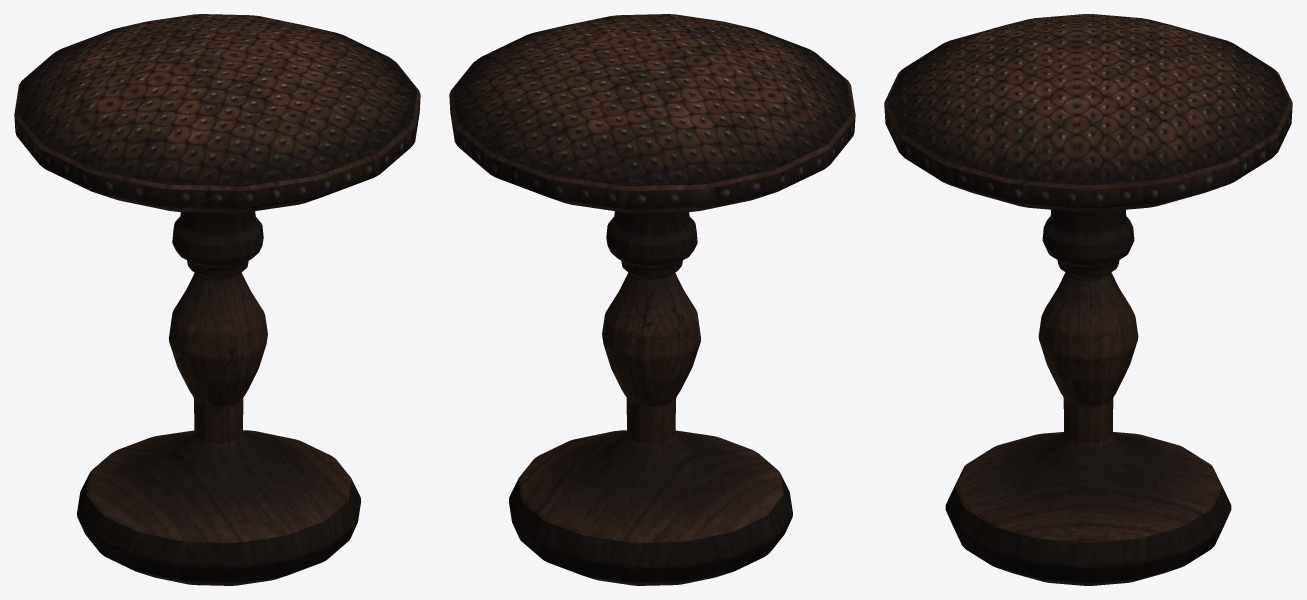
Rendered from barstool.dae.
3 views of the same model, side by side, from view 1: azimuth 30°, elevation 25°; view 2: azimuth 150°, elevation 25°; view 3: azimuth 270°, elevation 25° (orthographic).
Visible parts, largest first — view 1: barstool; view 2: barstool; view 3: barstool.
Boxes of the visible parts, left/top/right/bottom form: barstool: left=14, top=14, right=420, bottom=585; barstool: left=449, top=14, right=855, bottom=585; barstool: left=884, top=14, right=1292, bottom=585.
Size of the model in its own units: 0.3864 by 0.3864 by 0.5212.
Materials: 1 (1 with a texture image).
